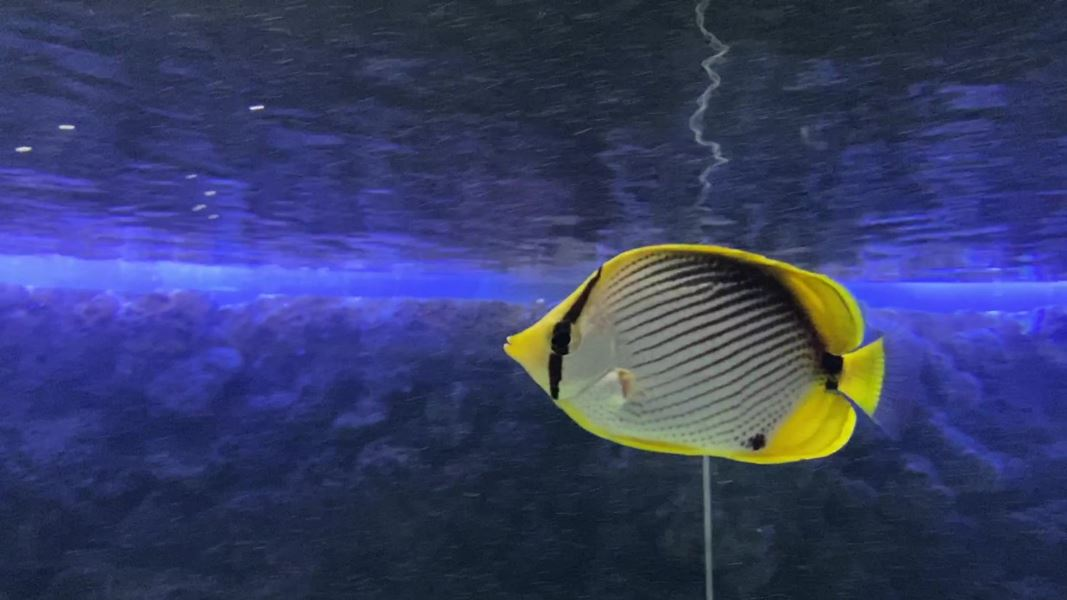Black-backed butterflyfish: (491, 233, 934, 481)
